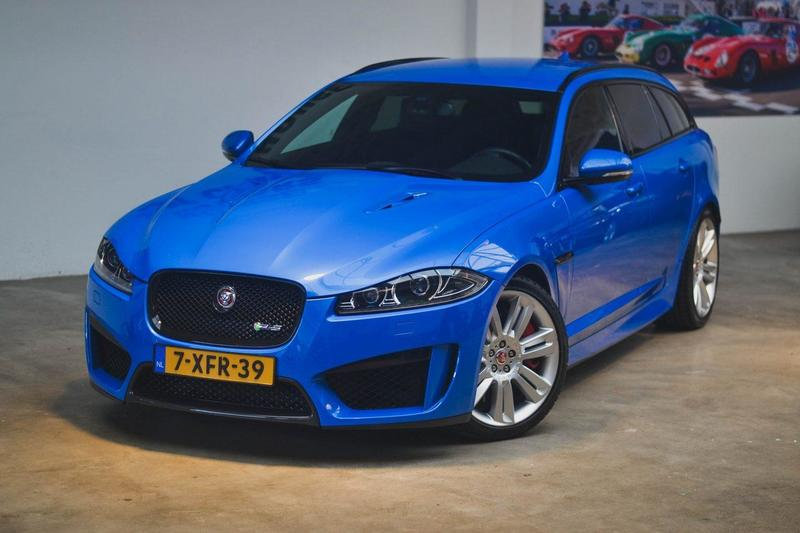kenteken: (152, 345, 278, 387)
